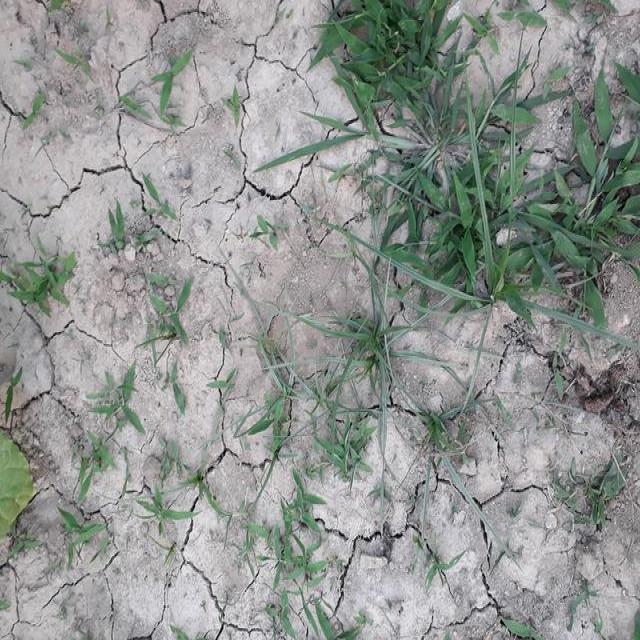weed: (317, 5, 640, 312)
